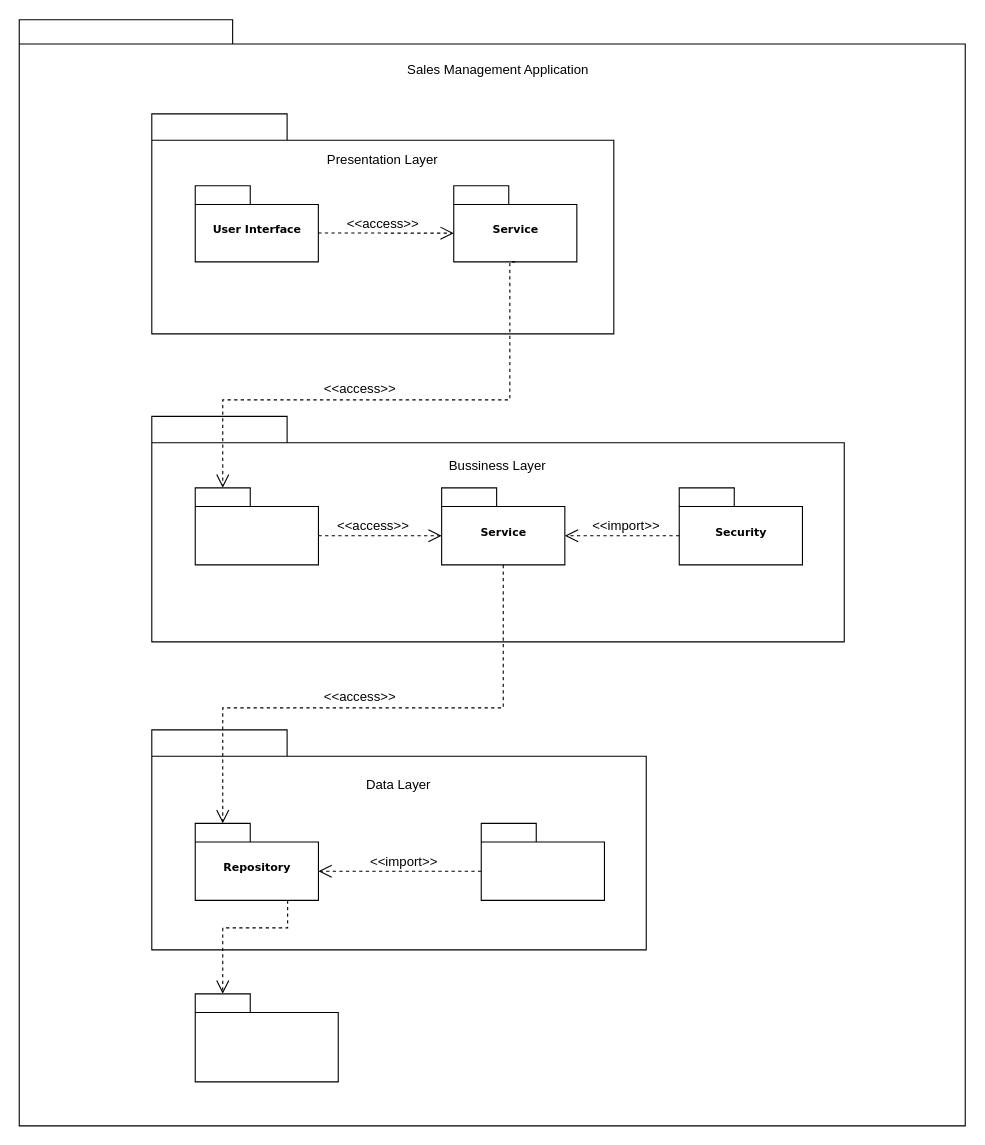
Some shapes in this 985 by 1145 pixel diagram are drawn without their labels. Here are the shapes that lost their labels. From the top down, the box of each, then its label:
(194, 487, 318, 565): Controller
(480, 822, 604, 900): Model
(194, 993, 338, 1082): Data Source
